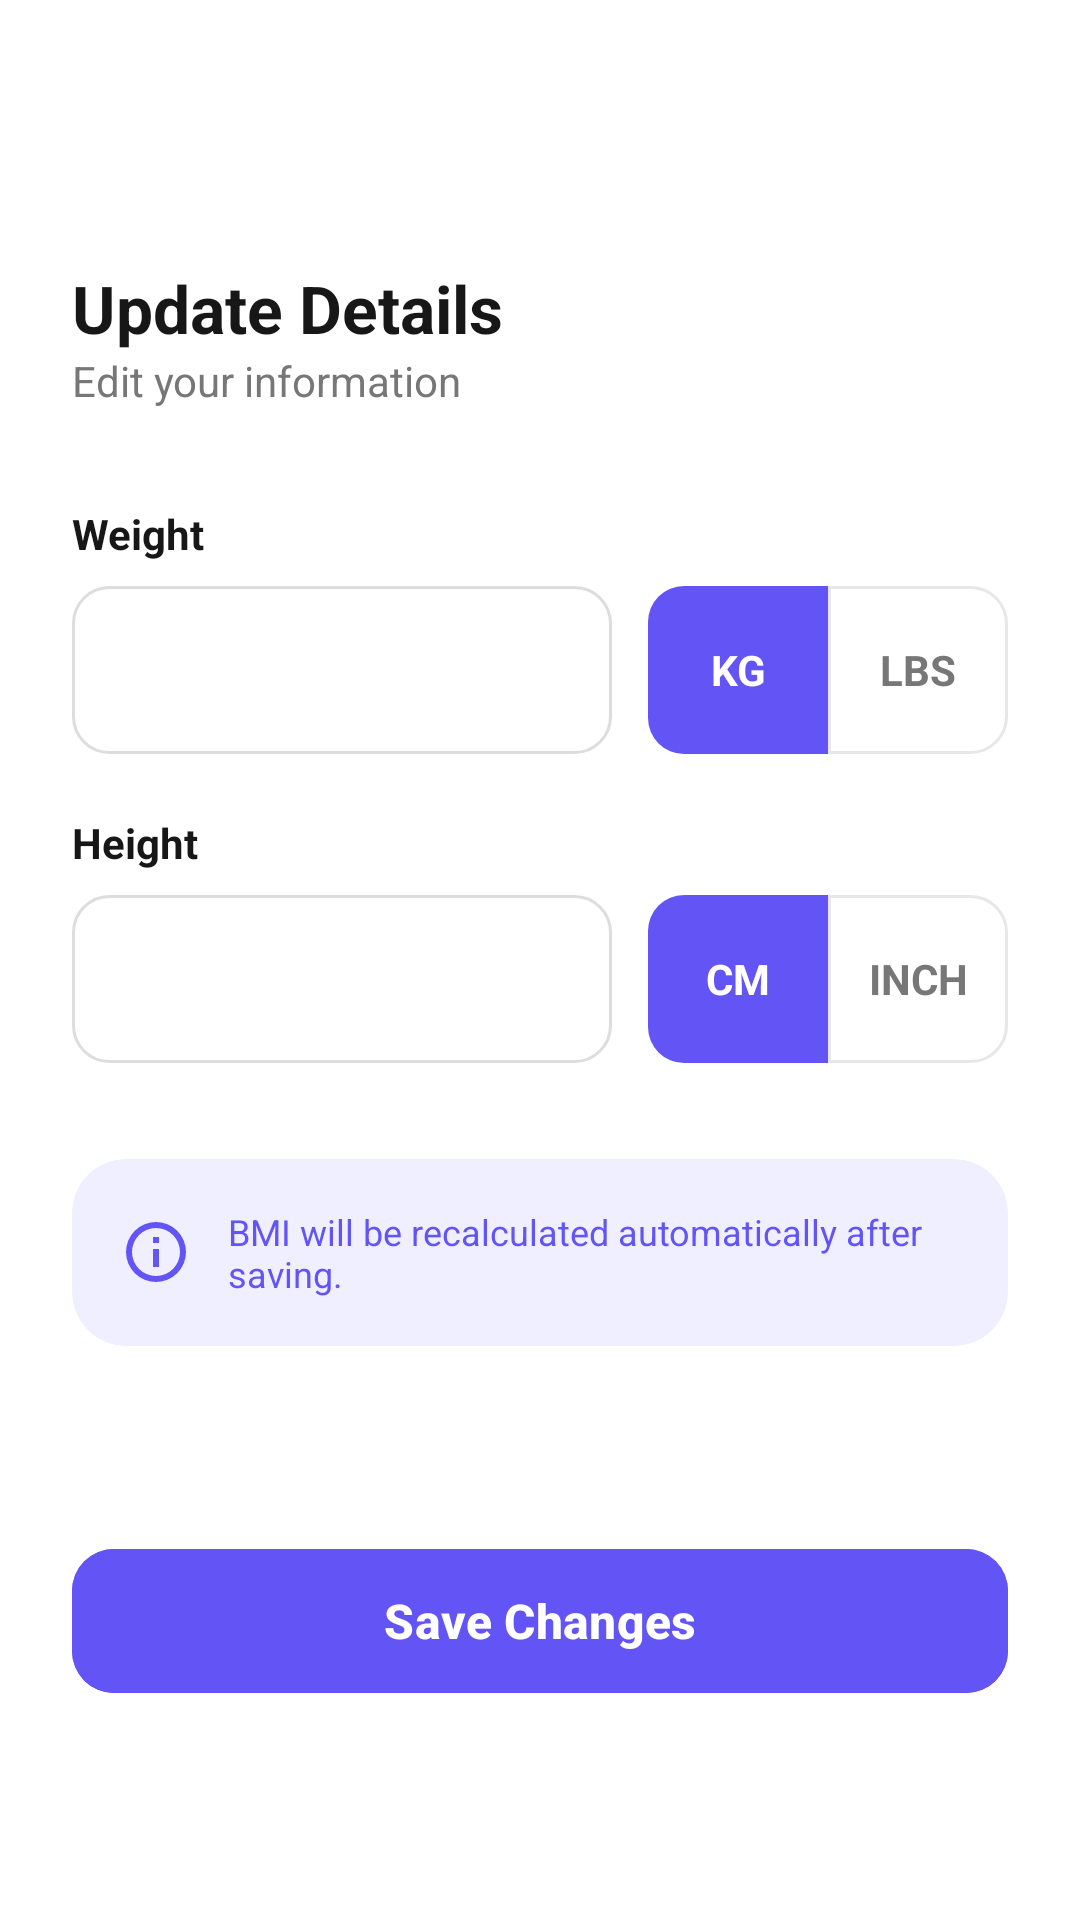

Screen size 1080×1920. Icon name, then its center in pixels as (x=x, y=y):
info: (x=156, y=1252)
